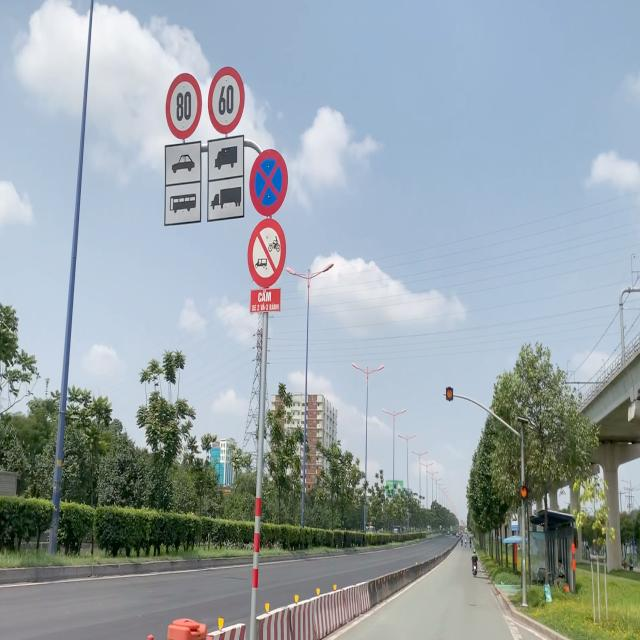Cam con lai: (247, 218, 286, 290)
Cam dung va do: (248, 146, 290, 218)
Toc do toi da: (208, 66, 246, 132), (166, 72, 202, 140)
